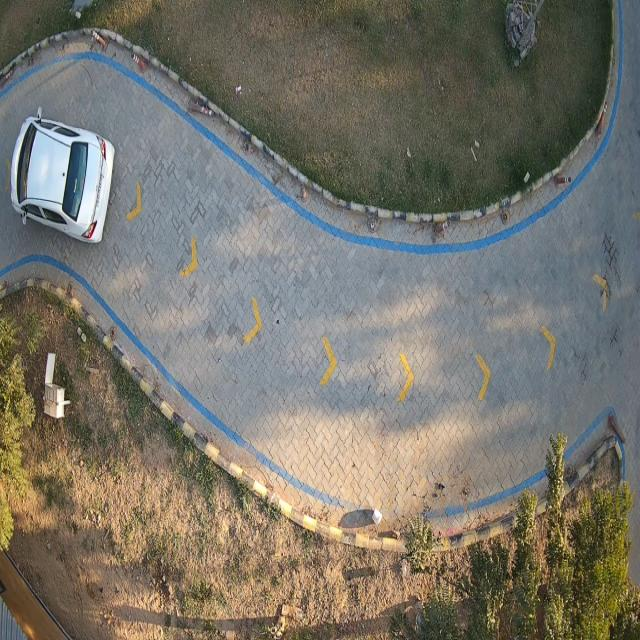car: (10, 109, 115, 241)
